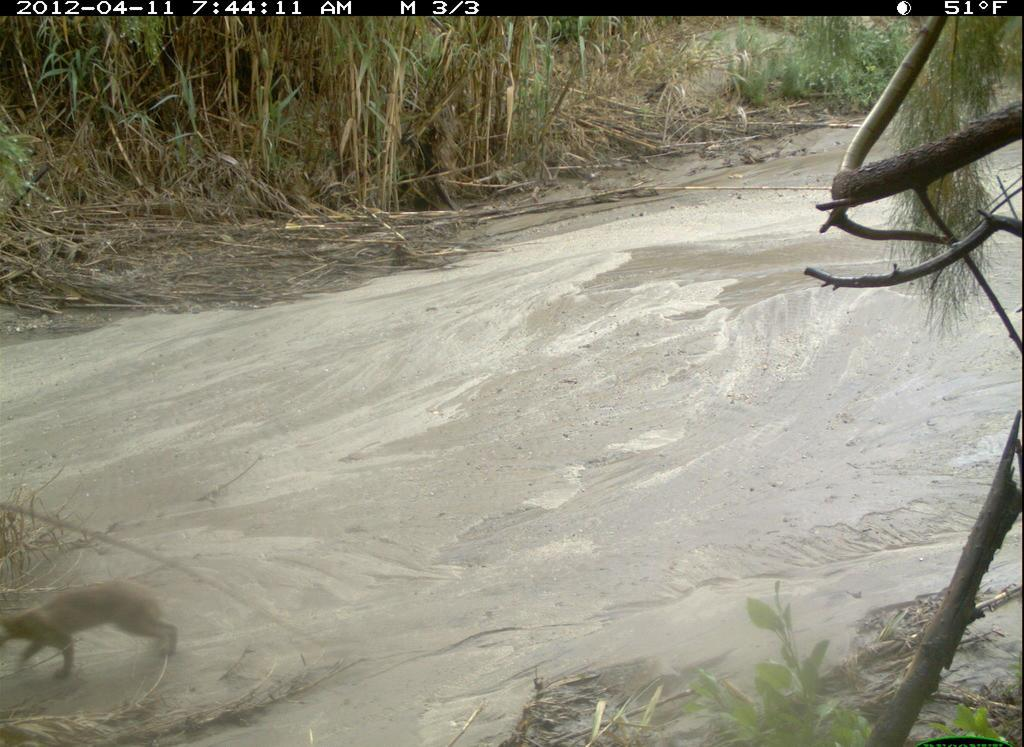bobcat: (7, 569, 185, 675)
